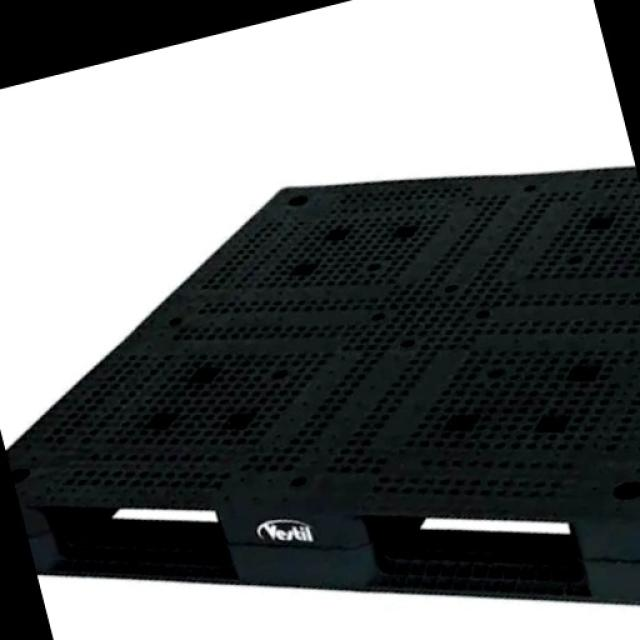non-igps: (0, 153, 640, 614)
